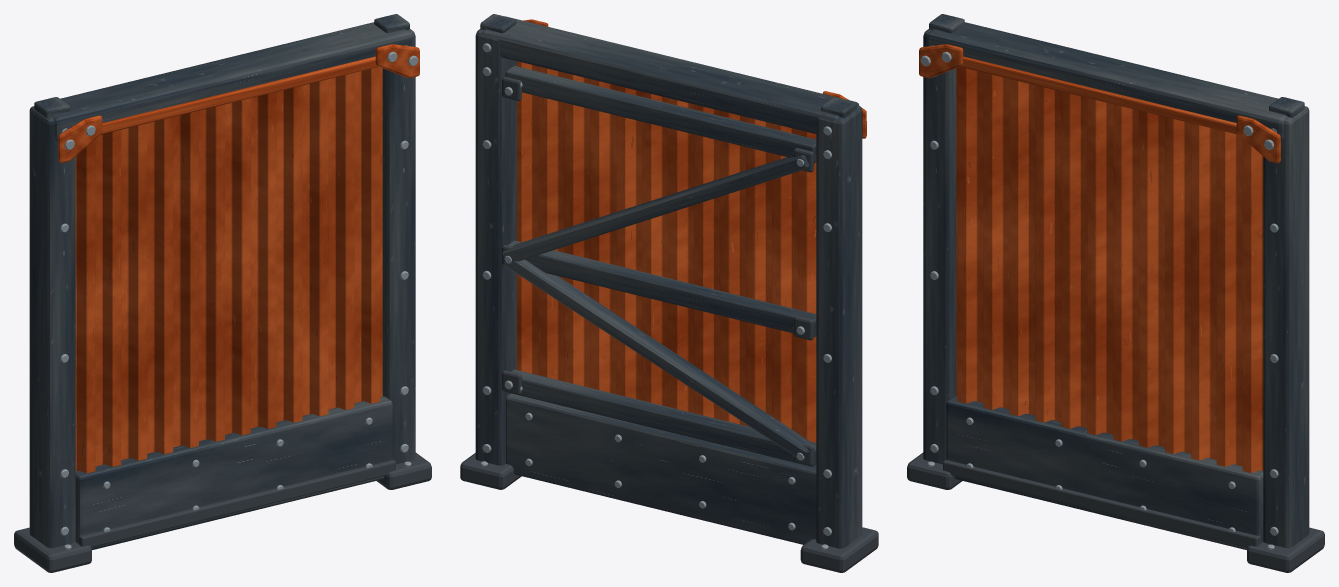
The model's file is wsc-module-020-corrugated-yard-wall.glb.
3 renders of one model, left to right at view 1: azimuth 30°, elevation 25°; view 2: azimuth 150°, elevation 25°; view 3: azimuth 330°, elevation 25°, orthographic.
Visible parts, largest first — view 1: wsc-module-020-corrugated-yard-wall; view 2: wsc-module-020-corrugated-yard-wall; view 3: wsc-module-020-corrugated-yard-wall.
Part boxes in pixels (x1=…): wsc-module-020-corrugated-yard-wall: x1=14, y1=14, x2=431, y2=572; wsc-module-020-corrugated-yard-wall: x1=460, y1=14, x2=878, y2=572; wsc-module-020-corrugated-yard-wall: x1=907, y1=14, x2=1324, y2=572.
Size of the model in its own units: 2.38 by 2.67 by 0.4045.
4 materials, 2 textured.
